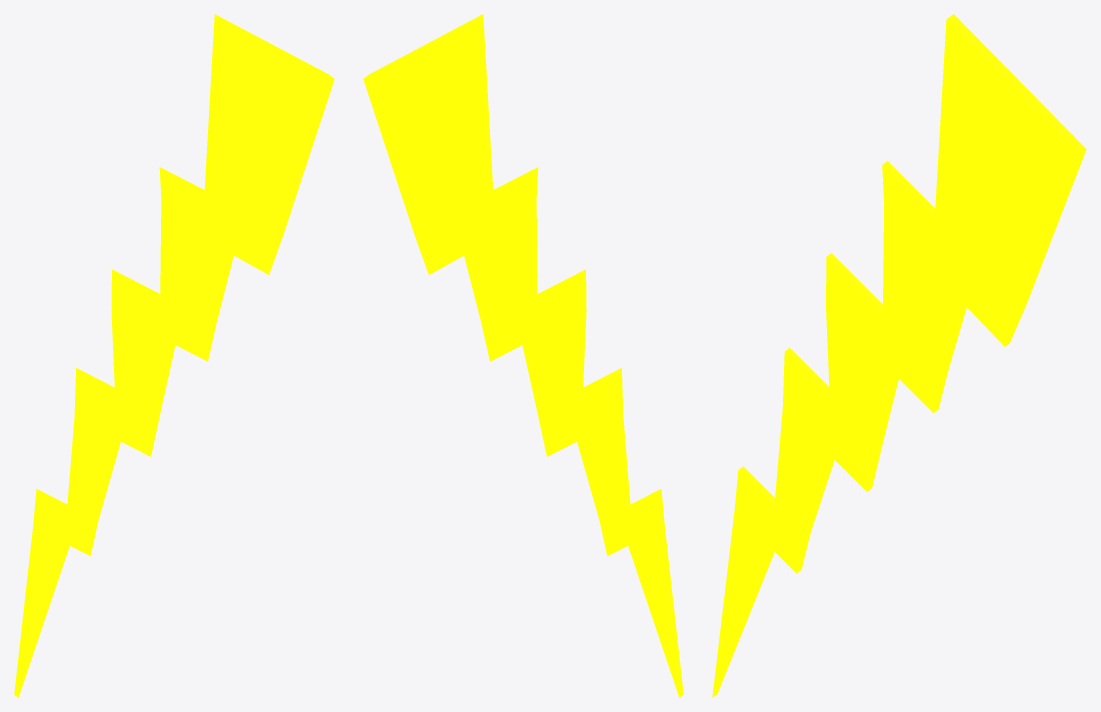
The model's file is lightningbolt.fbx.
3 views of the same model, side by side, from view 1: azimuth 30°, elevation 25°; view 2: azimuth 150°, elevation 25°; view 3: azimuth 330°, elevation 25° (orthographic). The views are drawn at different scales.
Visible parts, largest first — view 1: Cube; view 2: Cube; view 3: Cube.
Boxes of the visible parts, bbox=[...] form: Cube: bbox=[14, 14, 334, 697]; Cube: bbox=[363, 14, 683, 697]; Cube: bbox=[712, 14, 1086, 697].
Size of the model in its own units: 217 by 415 by 7.53.
